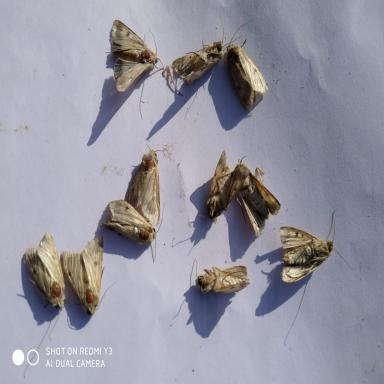abw: (279, 209, 352, 282), (170, 12, 243, 84), (106, 17, 164, 93), (61, 236, 115, 314), (226, 18, 270, 112), (99, 199, 164, 262), (237, 154, 281, 236), (124, 141, 166, 225), (22, 230, 66, 310), (198, 149, 246, 221), (194, 257, 252, 293)
